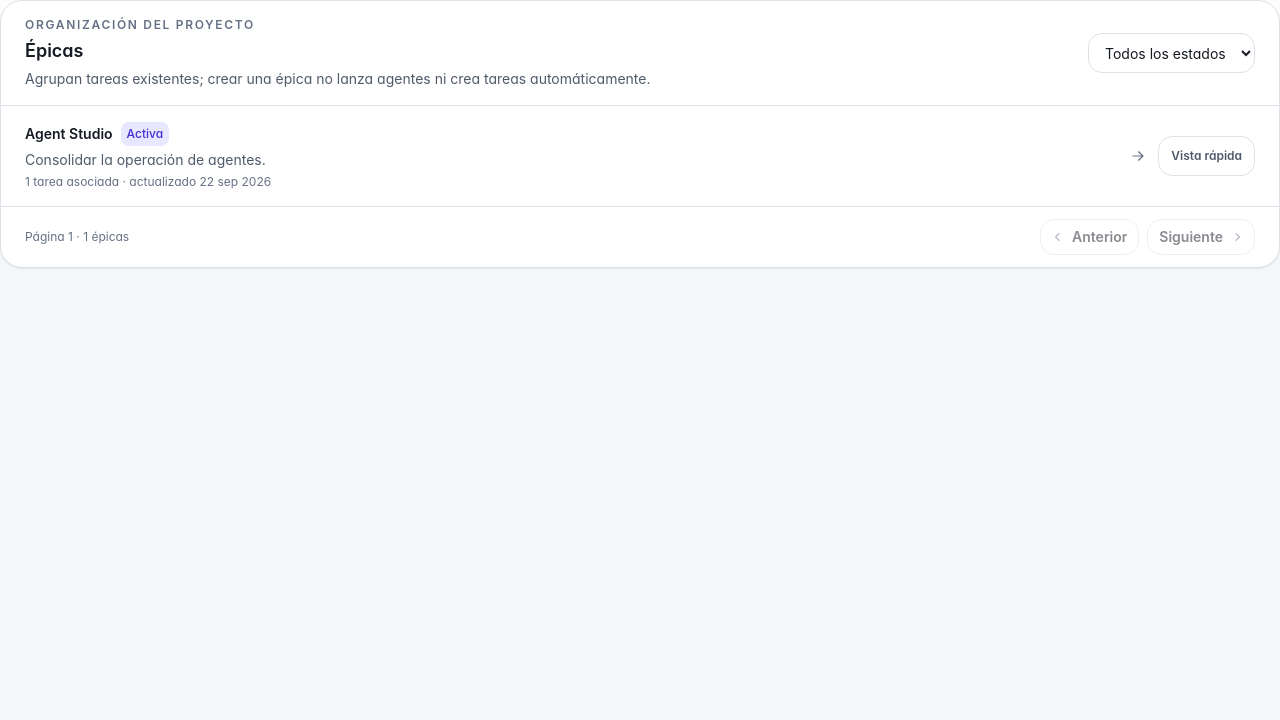
Scenario: project epics panel › hides create, attach, and detach controls when the backend says the actor cannot manage
The width and height of the screenshot is (1280, 720).
Click the button with aria-label "Abrir vista rápida de épica: Agent Studio" at {"x": 1207, "y": 156}, box [1158,136,1255,176]
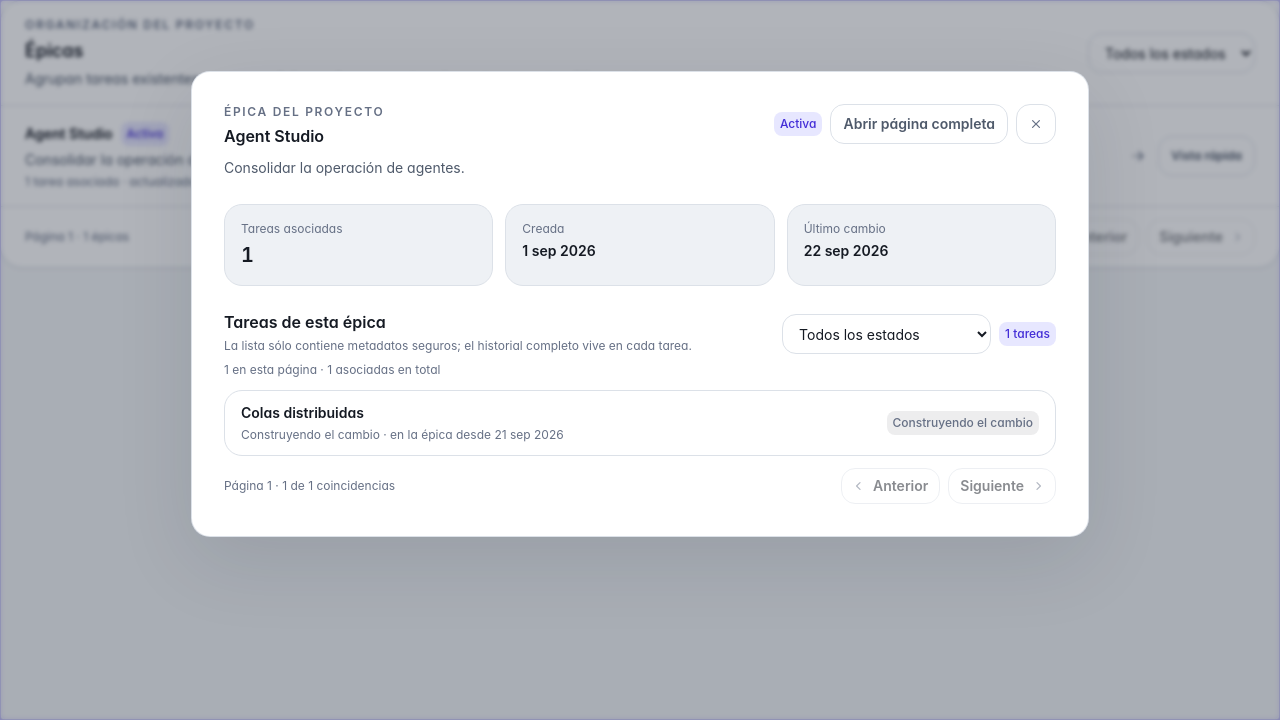
expect the heading "Tareas de esta épica" is shown: met, box [224,312,386,332]
